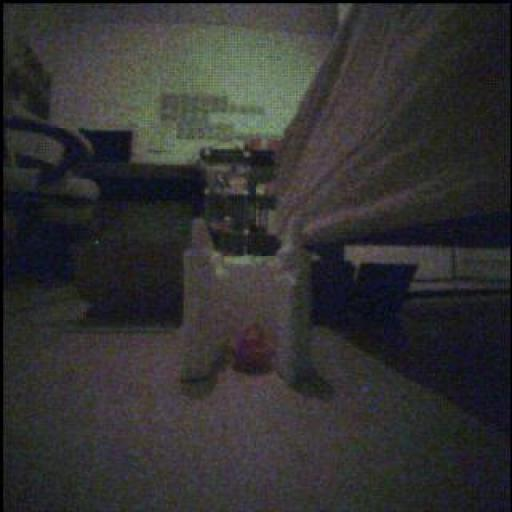basket: (238, 324, 273, 372)
